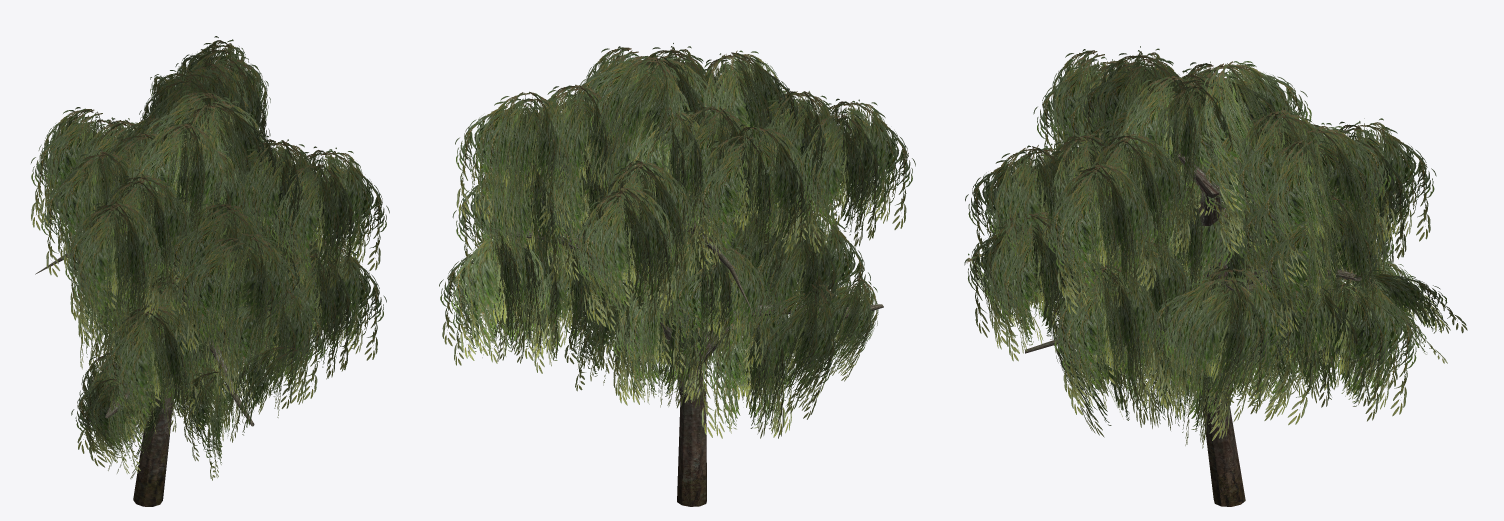
File: Tree_Bark.fbx
The picture shows the model from 3 angles, left to right: view 1: azimuth 30°, elevation 25°; view 2: azimuth 150°, elevation 25°; view 3: azimuth 270°, elevation 25°; orthographic projection. The views are drawn at different scales.
Visible parts, largest first — view 1: Tree_Bark; view 2: Tree_Bark; view 3: Tree_Bark.
Part boxes in pixels (x1=…): Tree_Bark: x1=31, y1=36, x2=389, y2=506; Tree_Bark: x1=439, y1=43, x2=915, y2=506; Tree_Bark: x1=964, y1=46, x2=1467, y2=506.
Bounding box in the file's own units: 1148 × 1406 × 1422.
2 materials, 2 textured.
